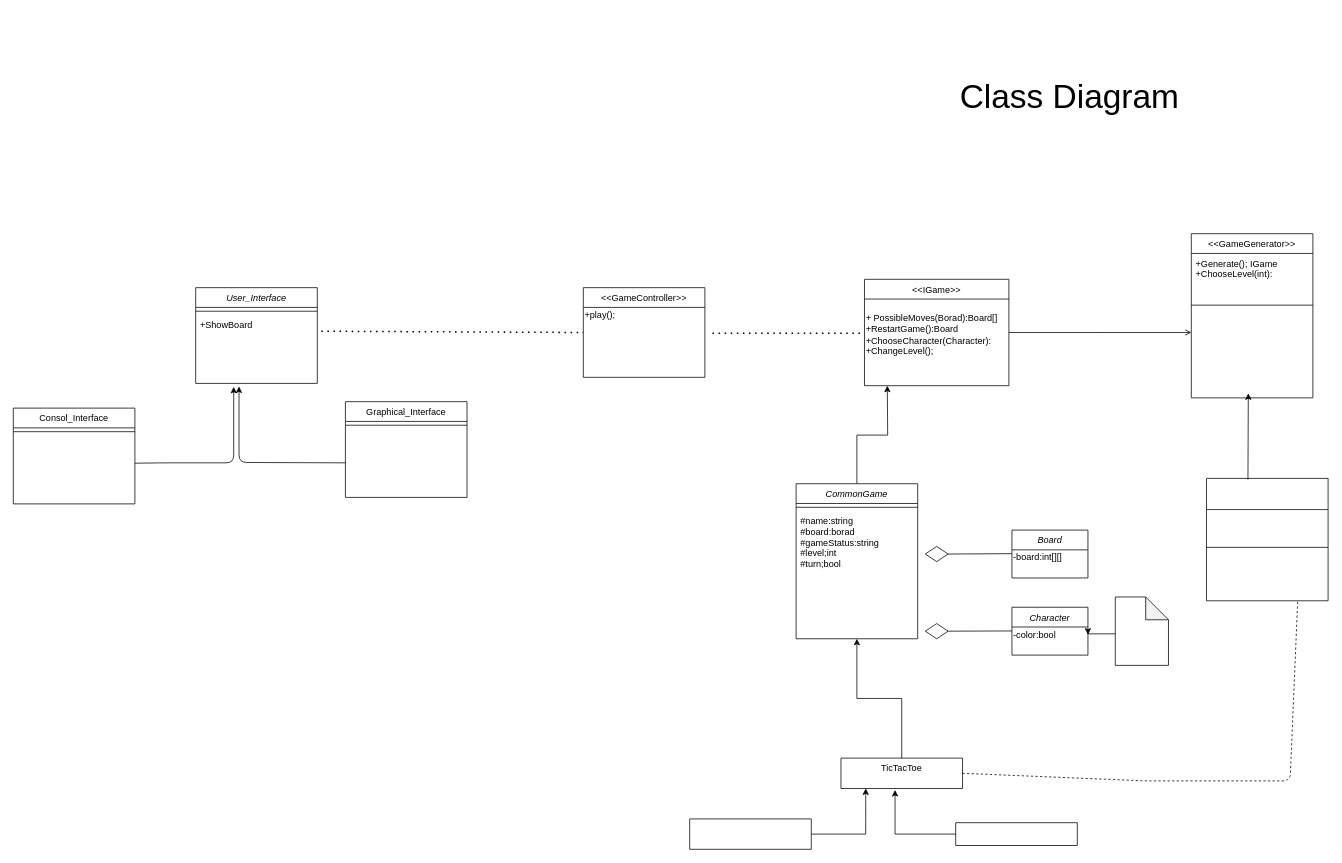
Some shapes in this 1342 by 863 pixel diagram are drawn without their labels. The centre of each missing label's shape, as x and y in pixels:
"0 = white 1= black" belongs at point (1141, 630).
"TicTacToeEasy" belongs at point (750, 833).
"TicTacToeGenerator" belongs at point (1267, 539).
"TicTacToeHard" belongs at point (1016, 834).
